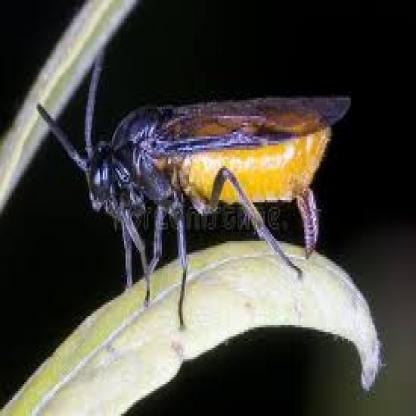sawfly: (43, 47, 354, 327)
